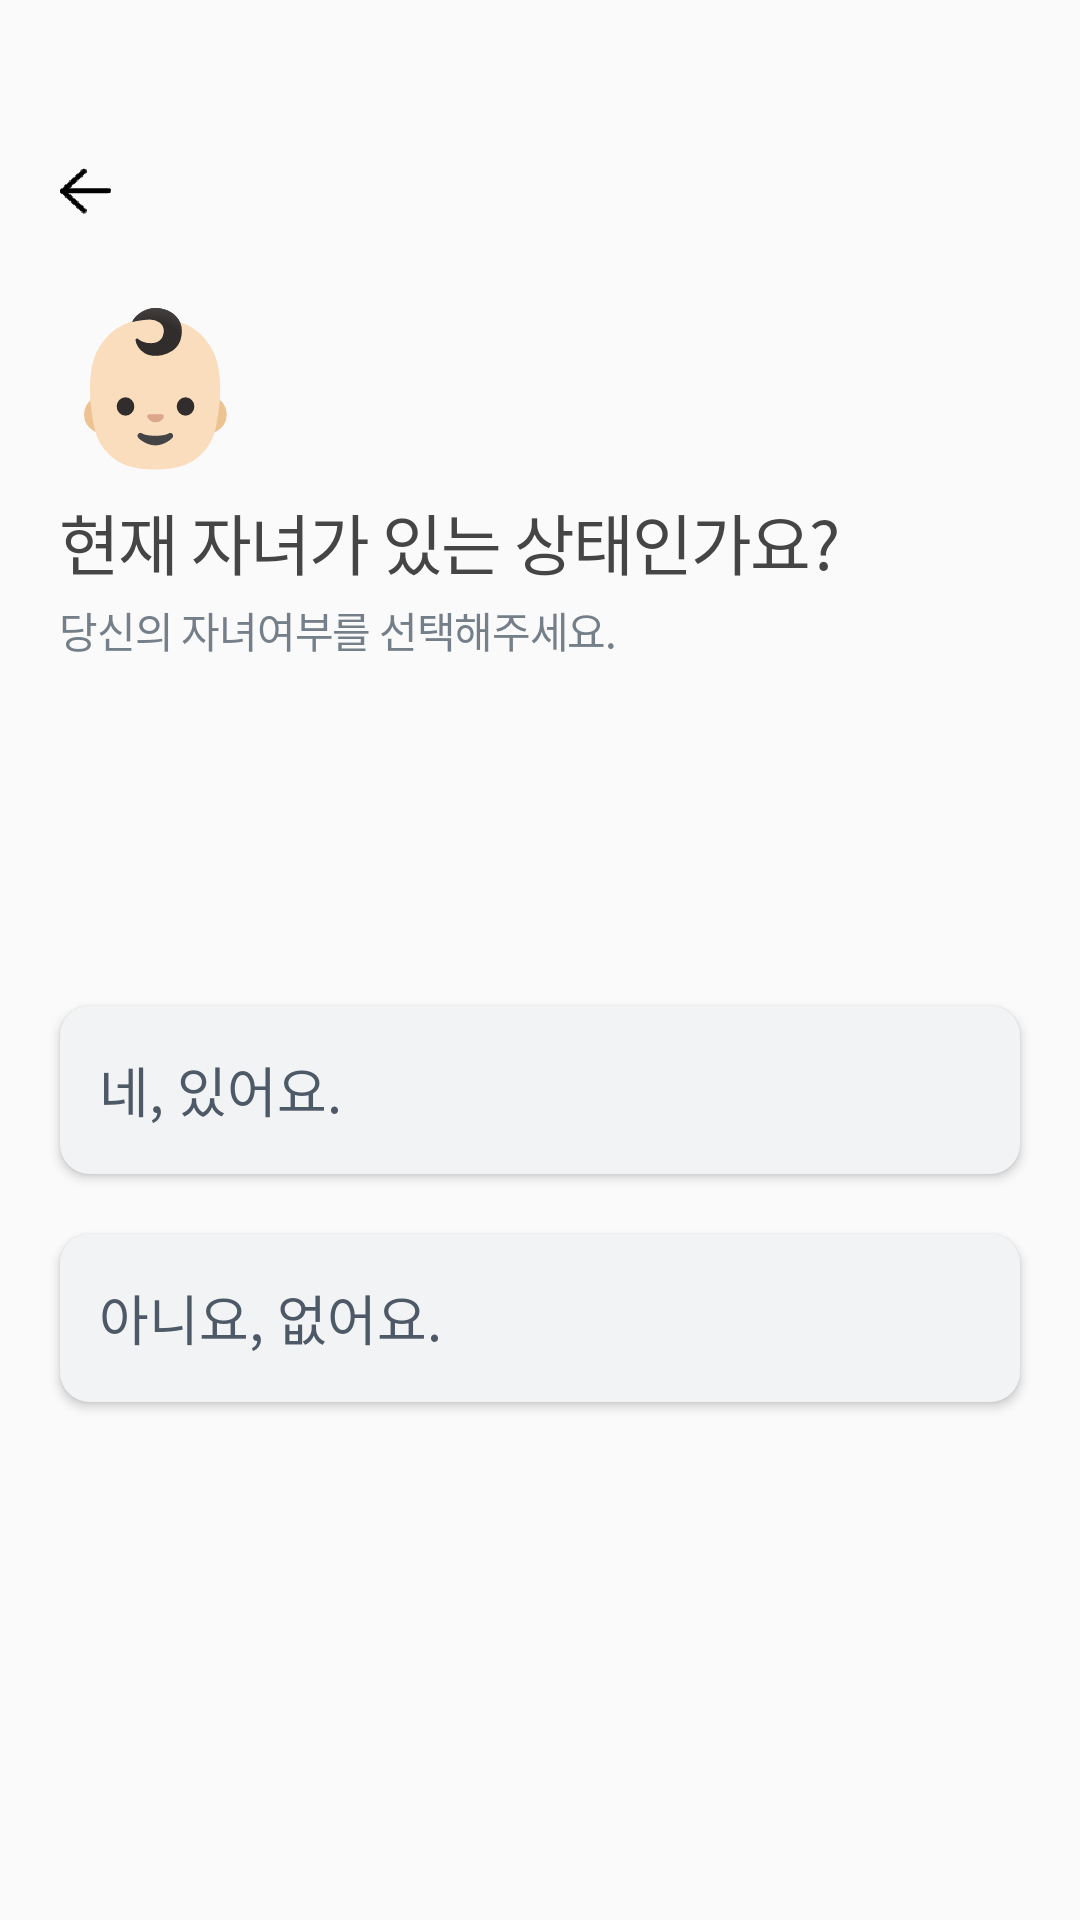

Icon click points for this 1080 × 1920 phone screenshot, format point (x, y):
before: point (85, 191)
